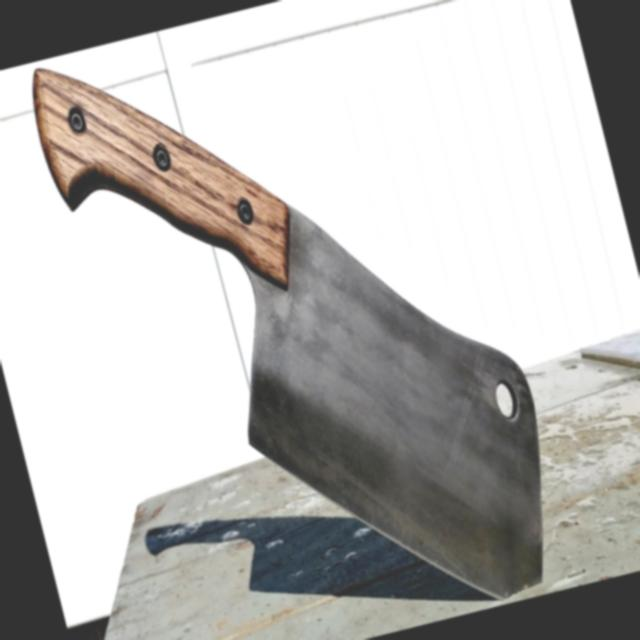cleaver: (20, 0, 577, 640)
